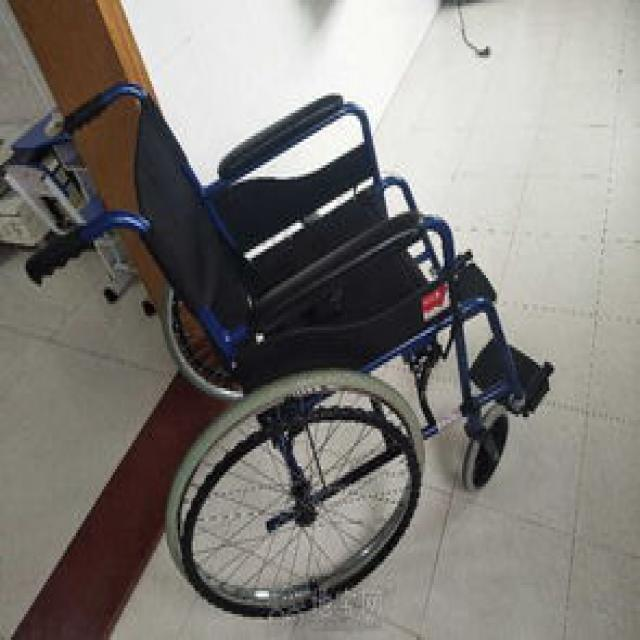wheelchair: (13, 69, 571, 632)
